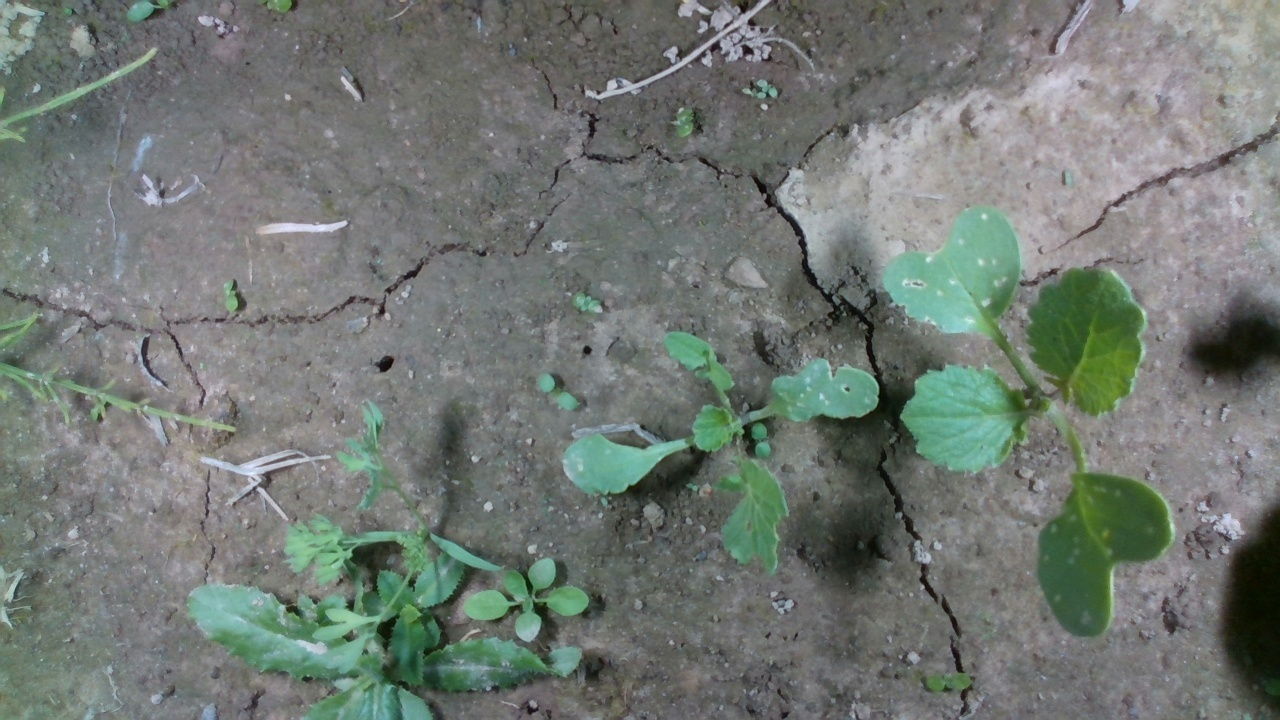weed: (534, 372, 581, 407), (933, 663, 976, 694), (215, 277, 246, 318), (571, 287, 605, 313), (754, 72, 780, 98)
